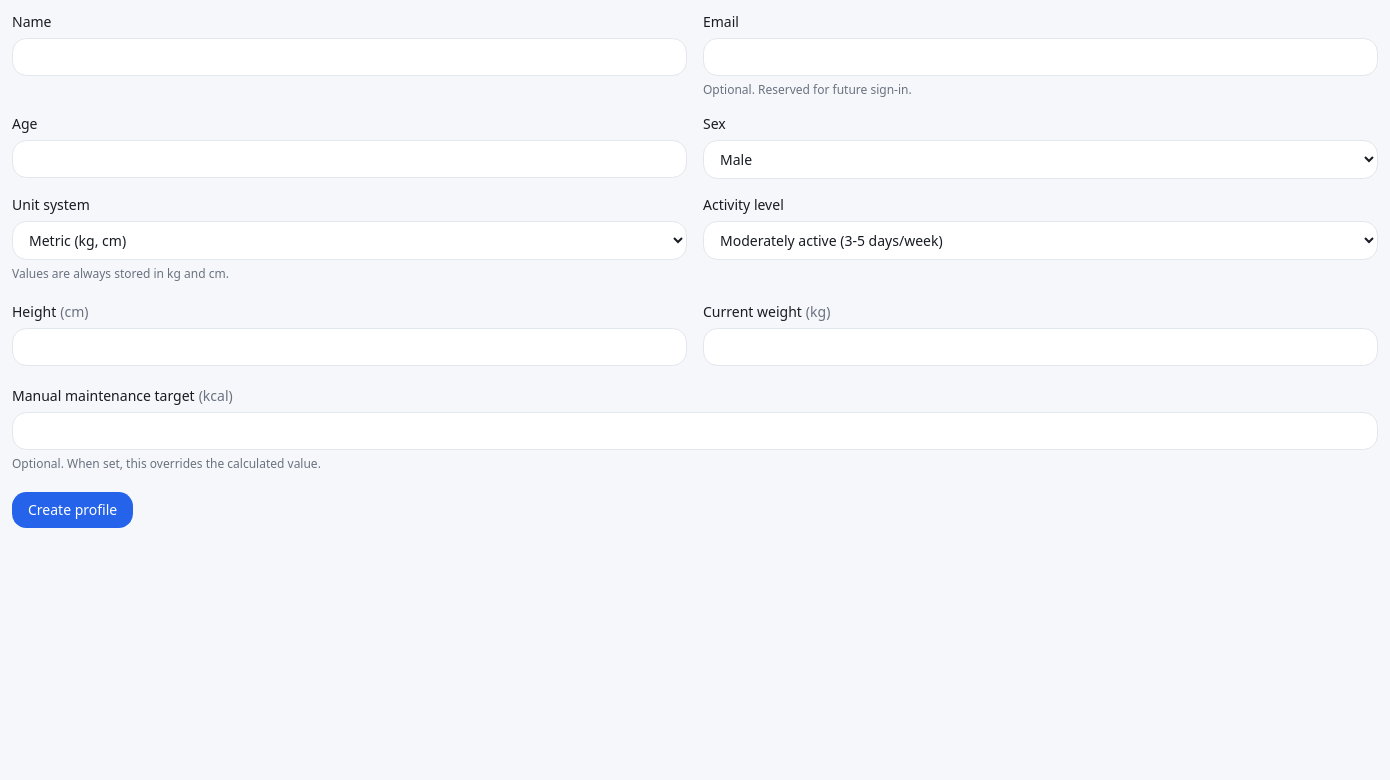
Test: profile form validation › rejects an age outside 13-120
This screenshot has width=1390, height=780.
Type "Shreyas" into the field labelled "Name". click: {"x": 350, "y": 57}
box: [12,38,687,76]
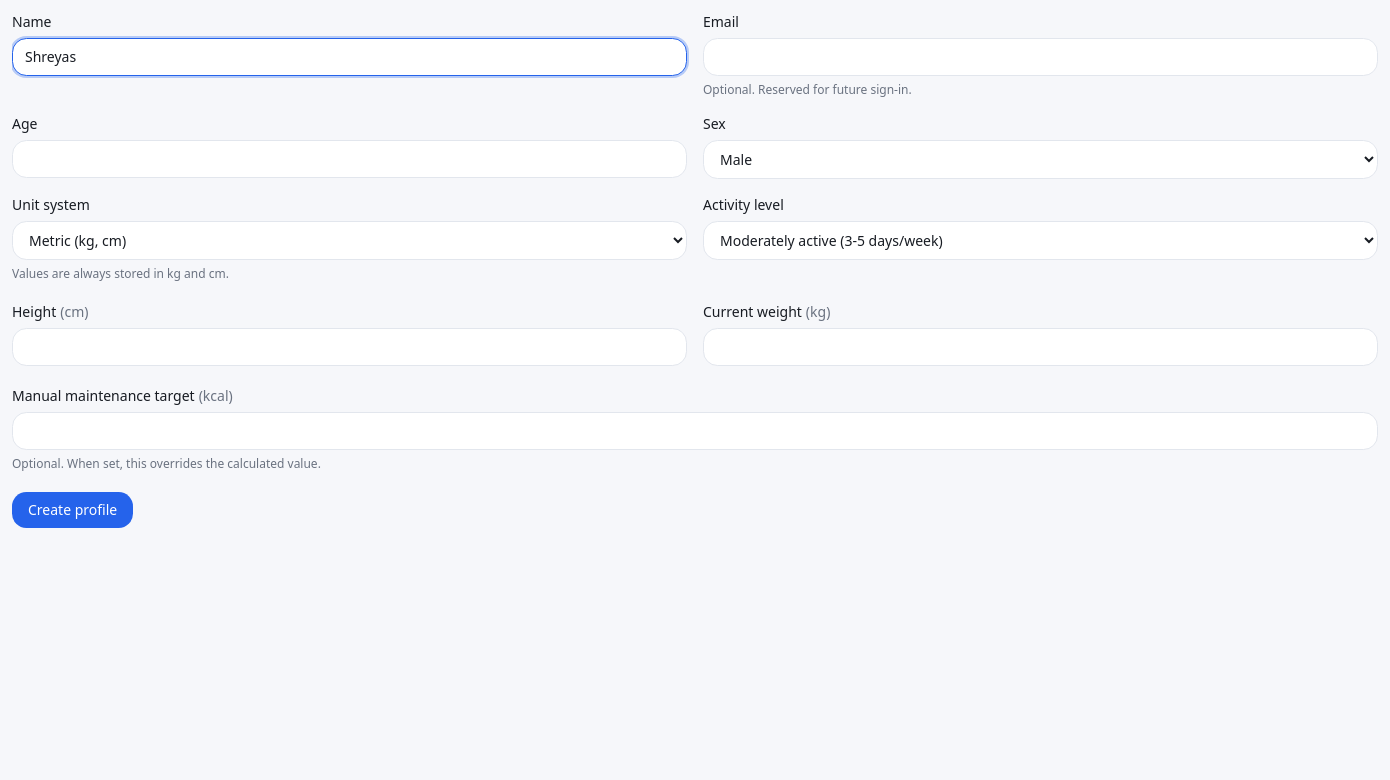
Type "9" into the number field labelled "Age". click: {"x": 350, "y": 159}
box: [12,140,687,178]
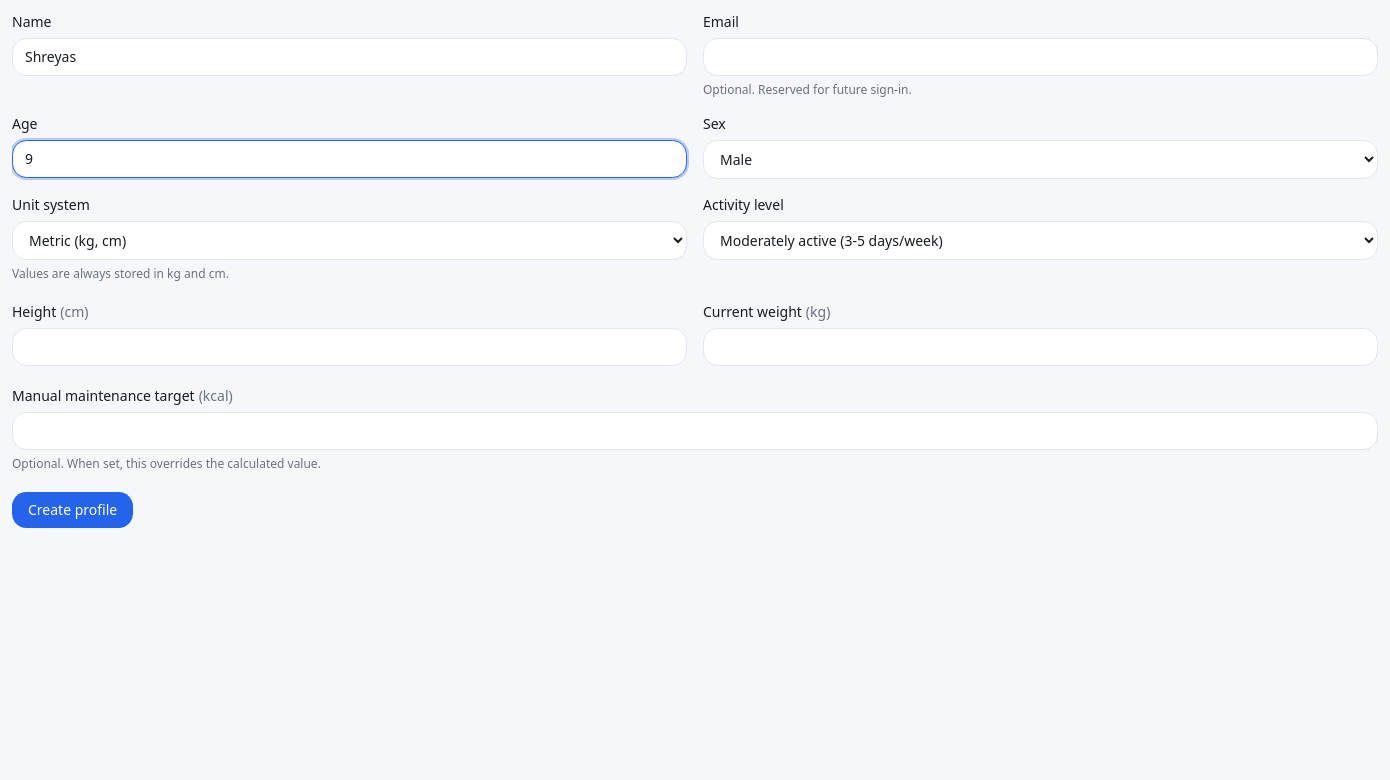
Type "180" into the number field labelled "Height(cm)". click: {"x": 350, "y": 347}
box: [12,328,687,366]
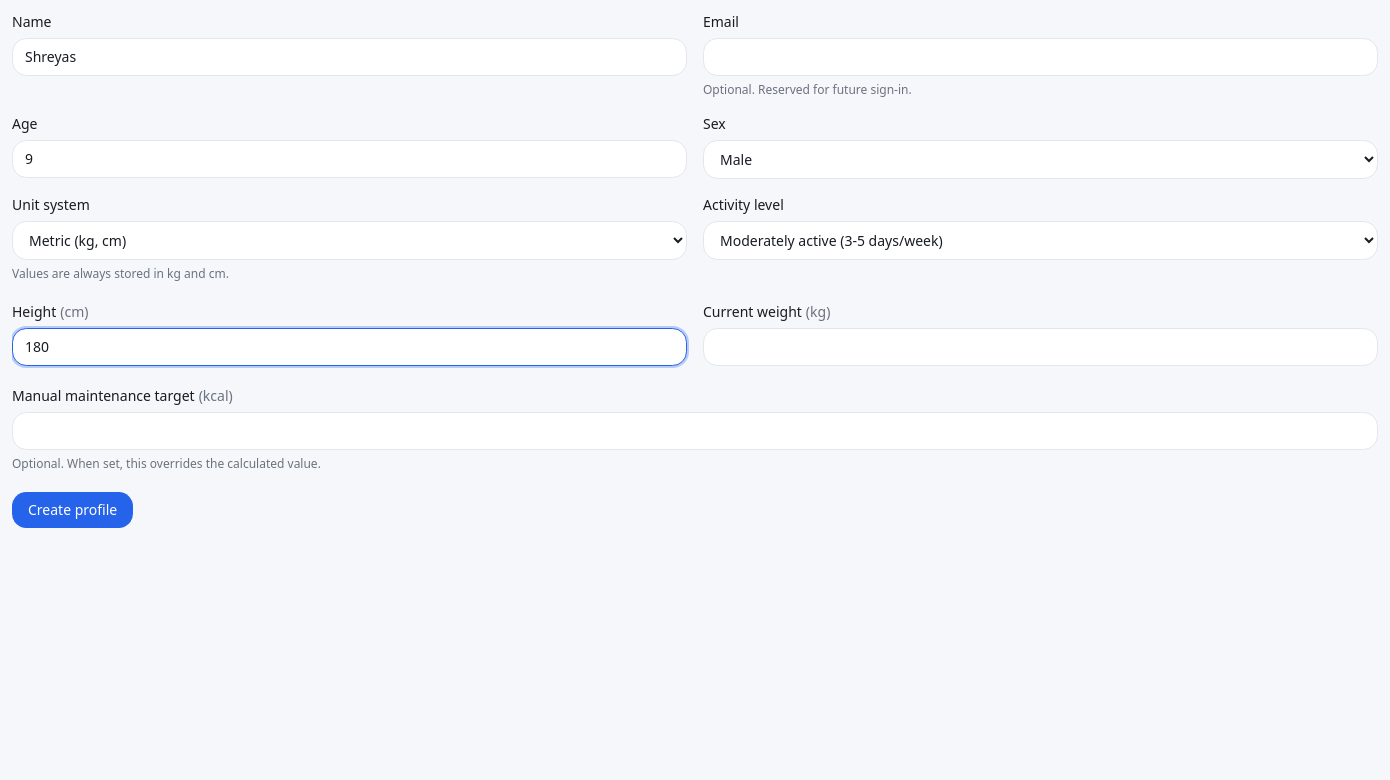
Type "80" into the number field labelled "Current weight(kg)". click: {"x": 1040, "y": 347}
box: [703,328,1378,366]
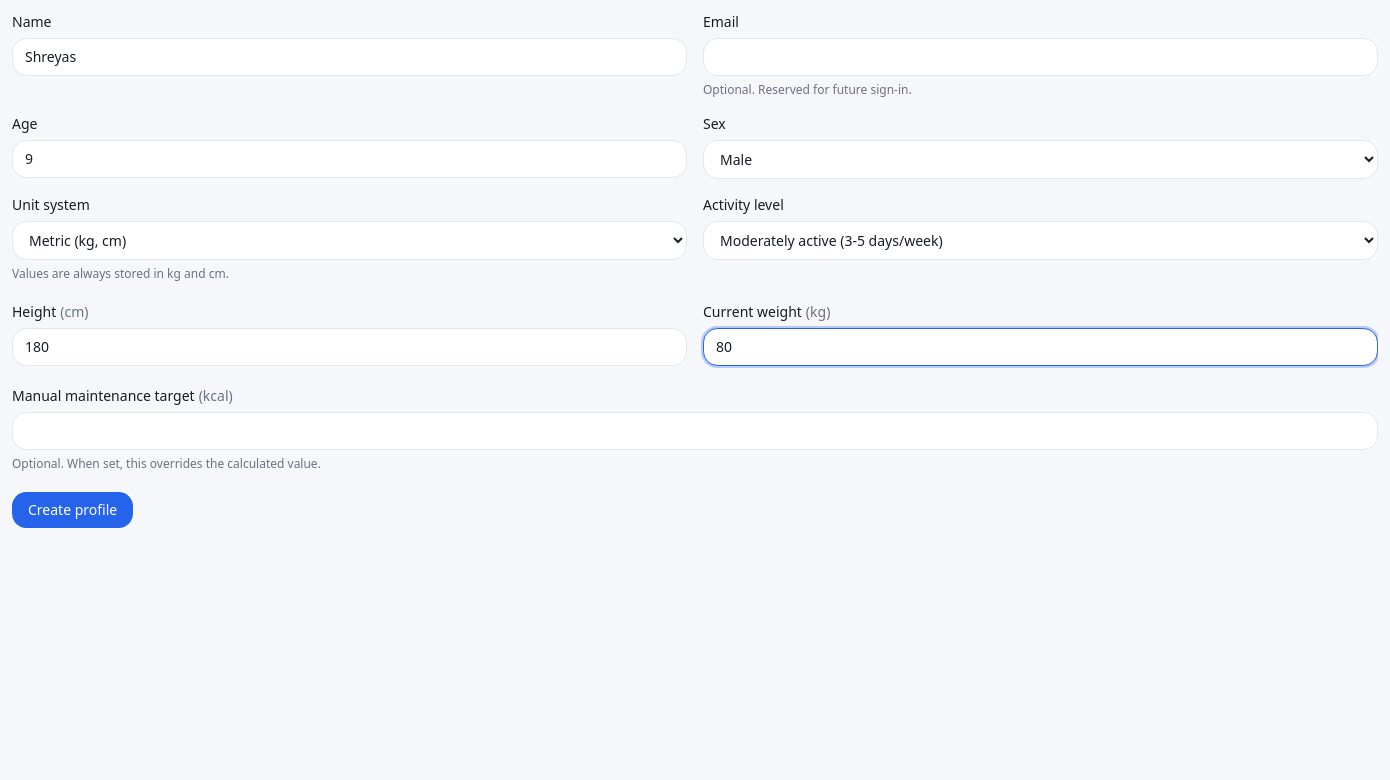
Click the button "Create profile". click: {"x": 73, "y": 510}
box: [12,492,133,528]
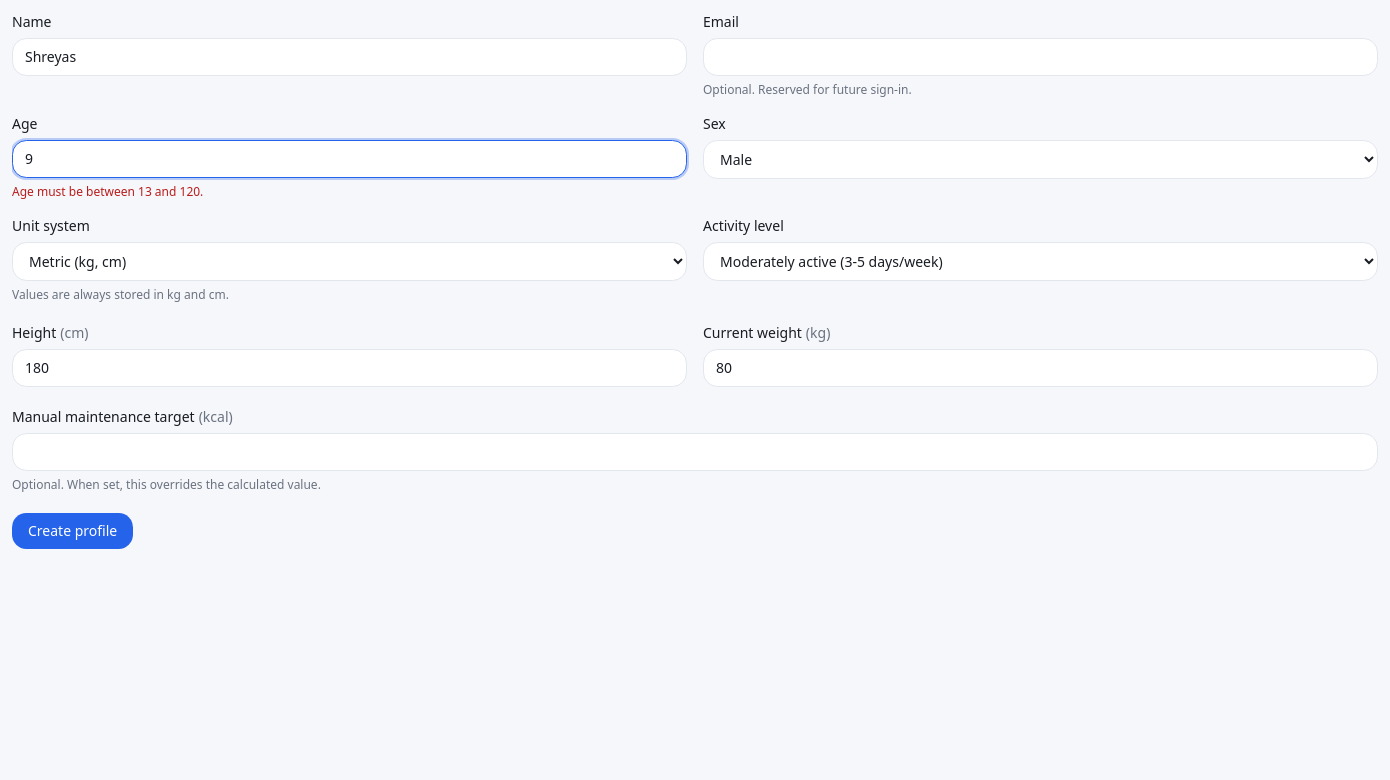
Expected: the text "Age must be between 13 and 120." is shown, [12,183,203,200]
